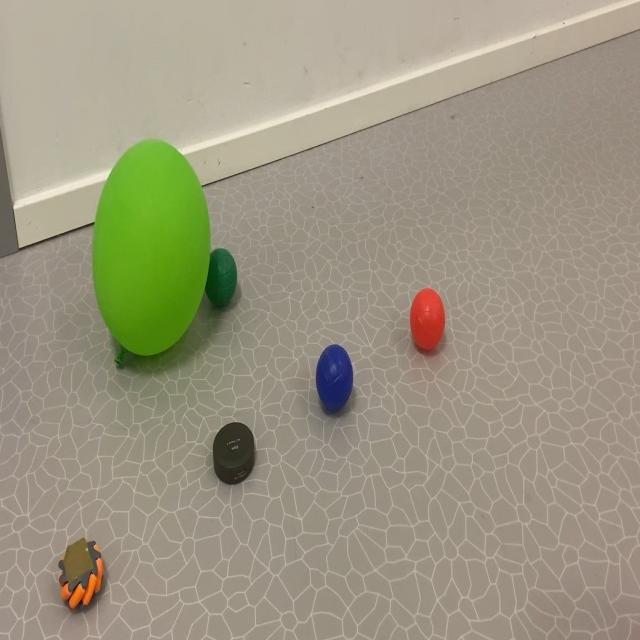7: (382, 259, 471, 412)
green ball: (286, 323, 372, 450)
red ball: (187, 232, 288, 338)
